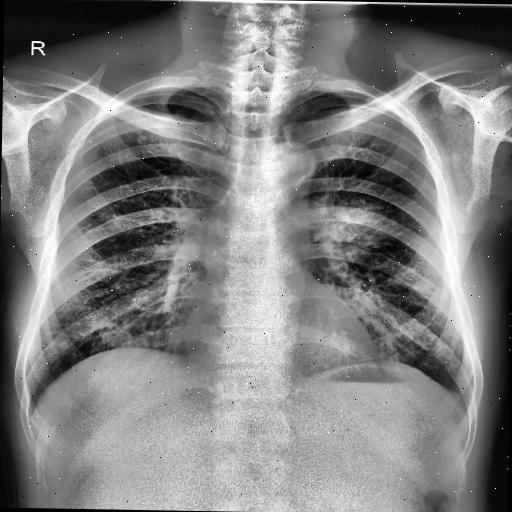0- Aortic enlargement: (258, 140, 318, 198), (267, 138, 315, 182)
2- Calcification: (295, 155, 316, 187)
6- Infiltration: (325, 197, 405, 263), (315, 202, 398, 259)
7- Lung Opacity: (325, 197, 405, 263), (331, 204, 388, 249)
